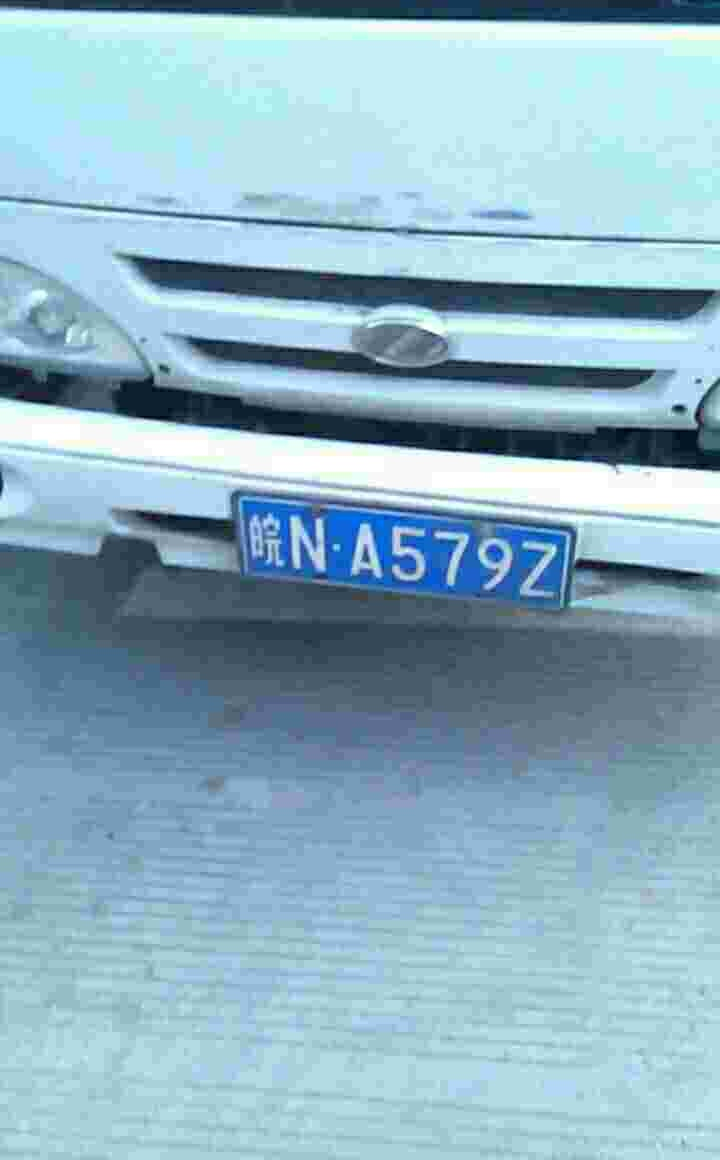license_plate: (231, 500, 575, 612)
